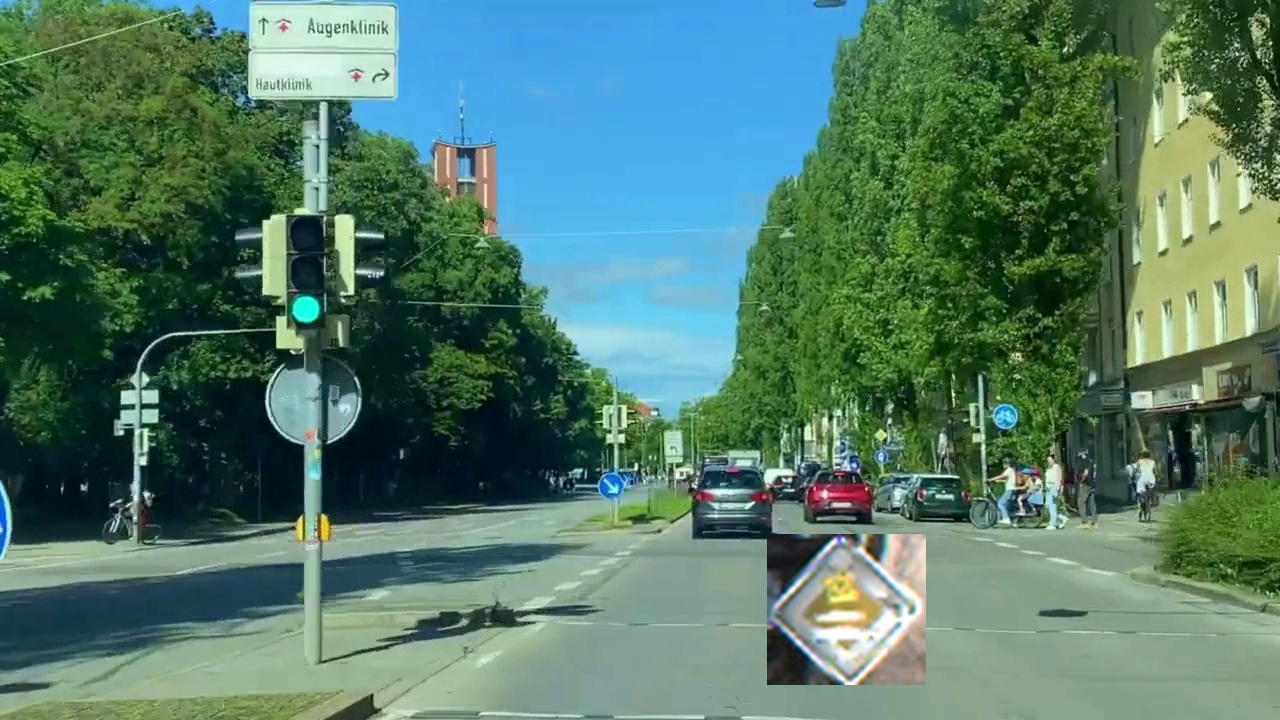Priority road: (767, 534, 926, 685)
